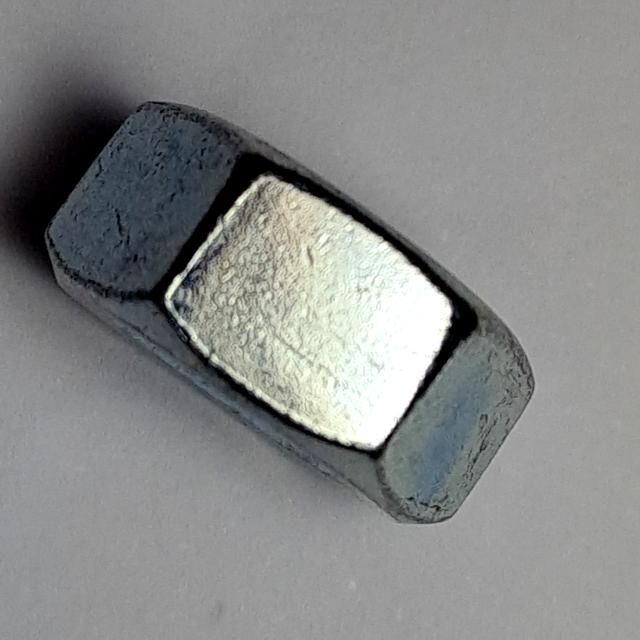Side_Excellent: (36, 89, 555, 539)
